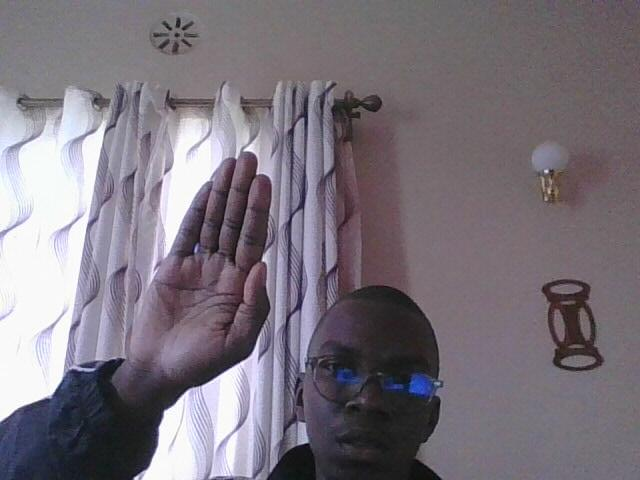paper: (123, 139, 286, 387), (126, 151, 272, 391)
